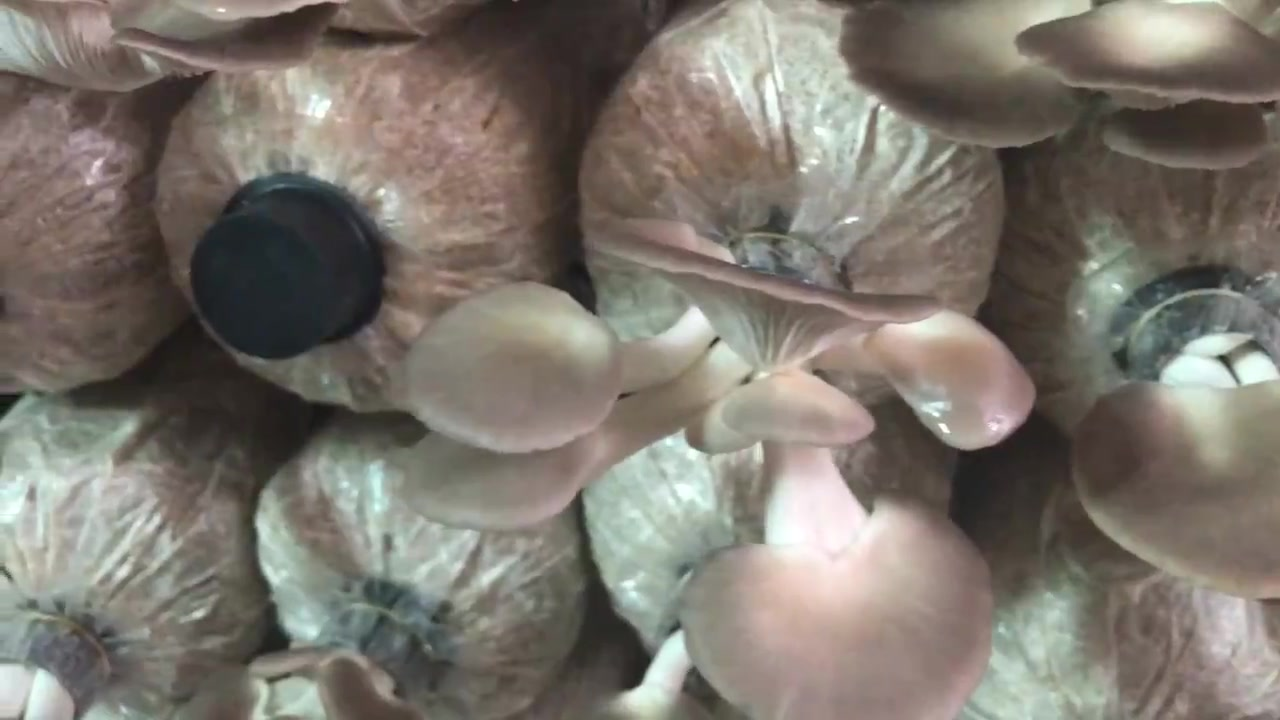nam: (391, 205, 1041, 720), (838, 5, 1280, 180), (1070, 267, 1280, 608)
